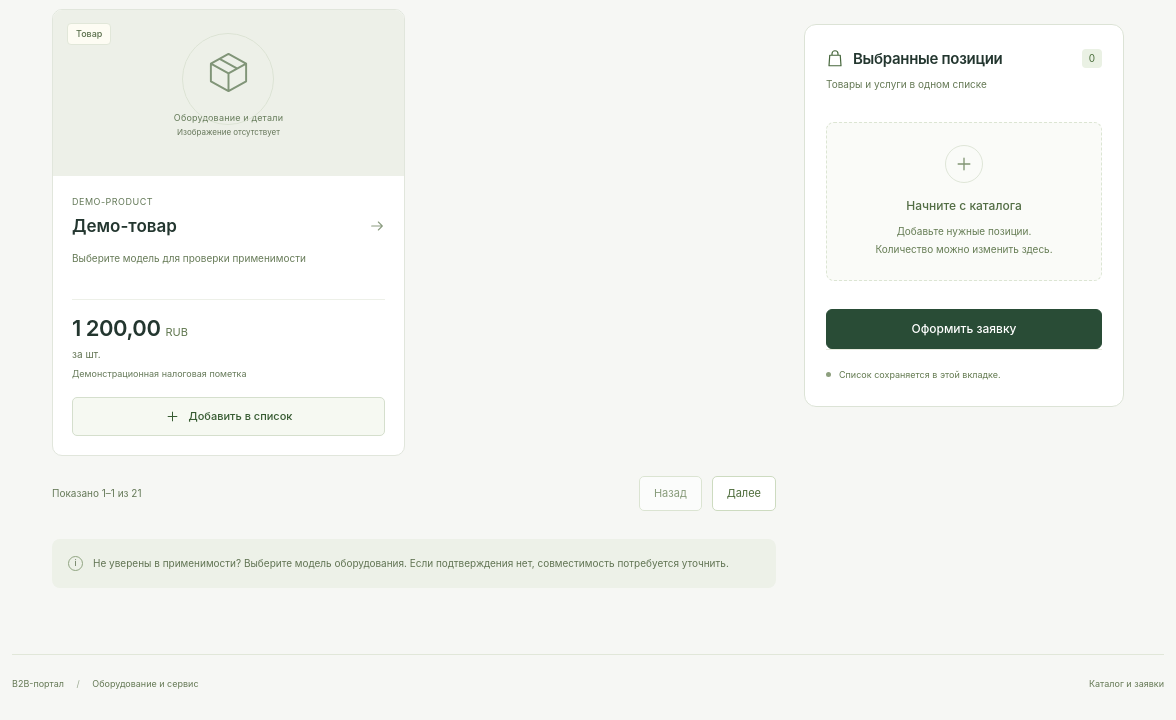
Test: catalog UI on approved fixtures › supports pagination with the contract limit and offset
(page scrolled)
Expected: the button "Назад" is disabled, [639,476,702,511]
Click the button "Далее" at (744, 493), box [712,476,776,511]
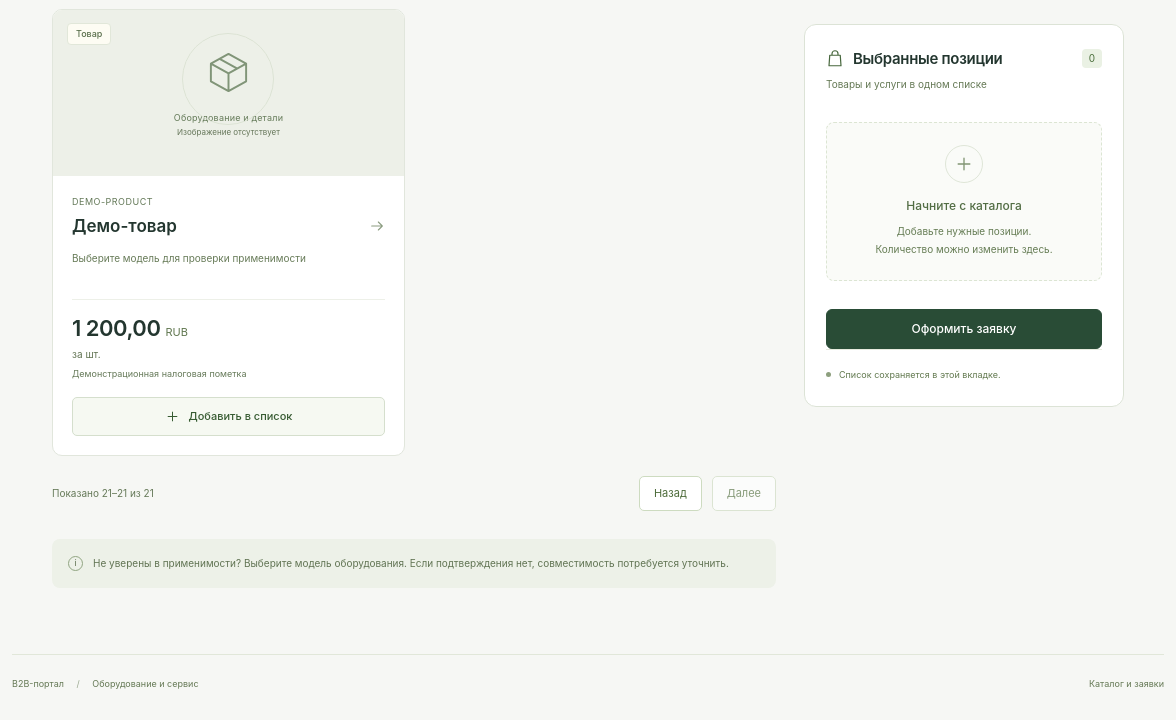
Now the text "Показано 21–21 из 21" is shown, box [52,486,154,501]
Now the button "Далее" is disabled, box [712,476,776,511]
